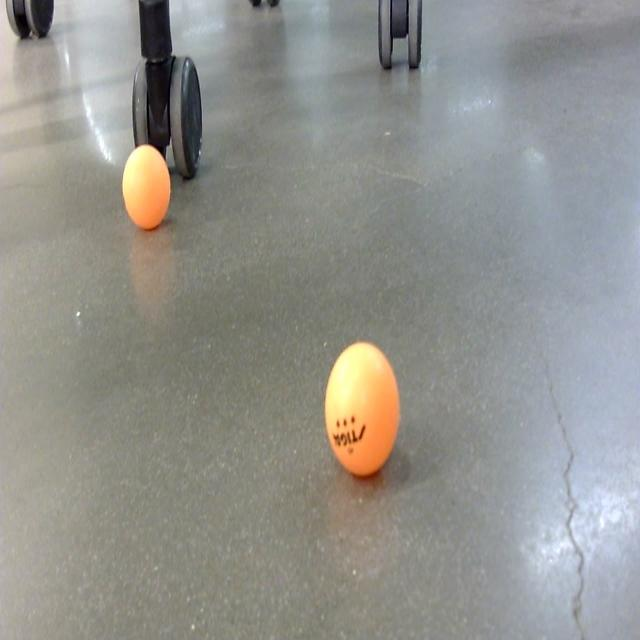ball: (323, 338, 402, 480), (121, 142, 172, 231)
